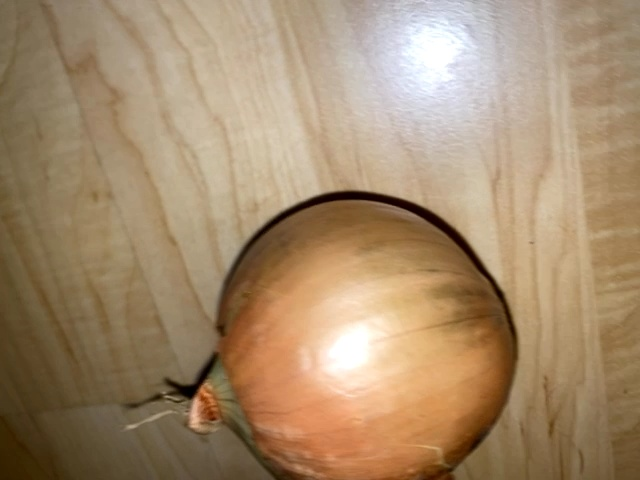onion: (116, 190, 526, 480)
